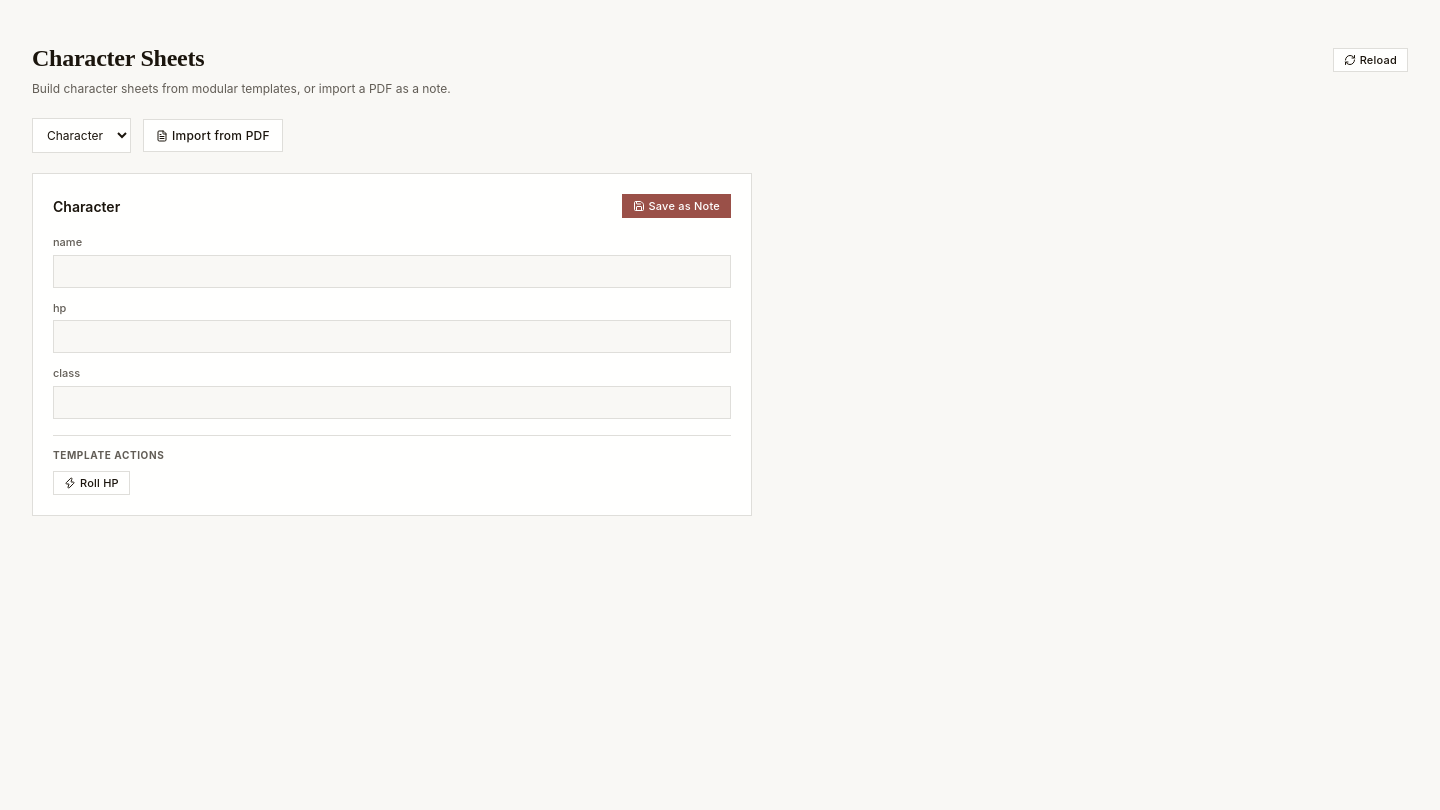
Test: CharacterSheetView › saves the sheet as a note with frontmatter and content
Expected: the heading "Character" is shown, [53, 196, 120, 216]
Type "Elira" into the field labelled "name" at (392, 271), box [53, 254, 731, 288]
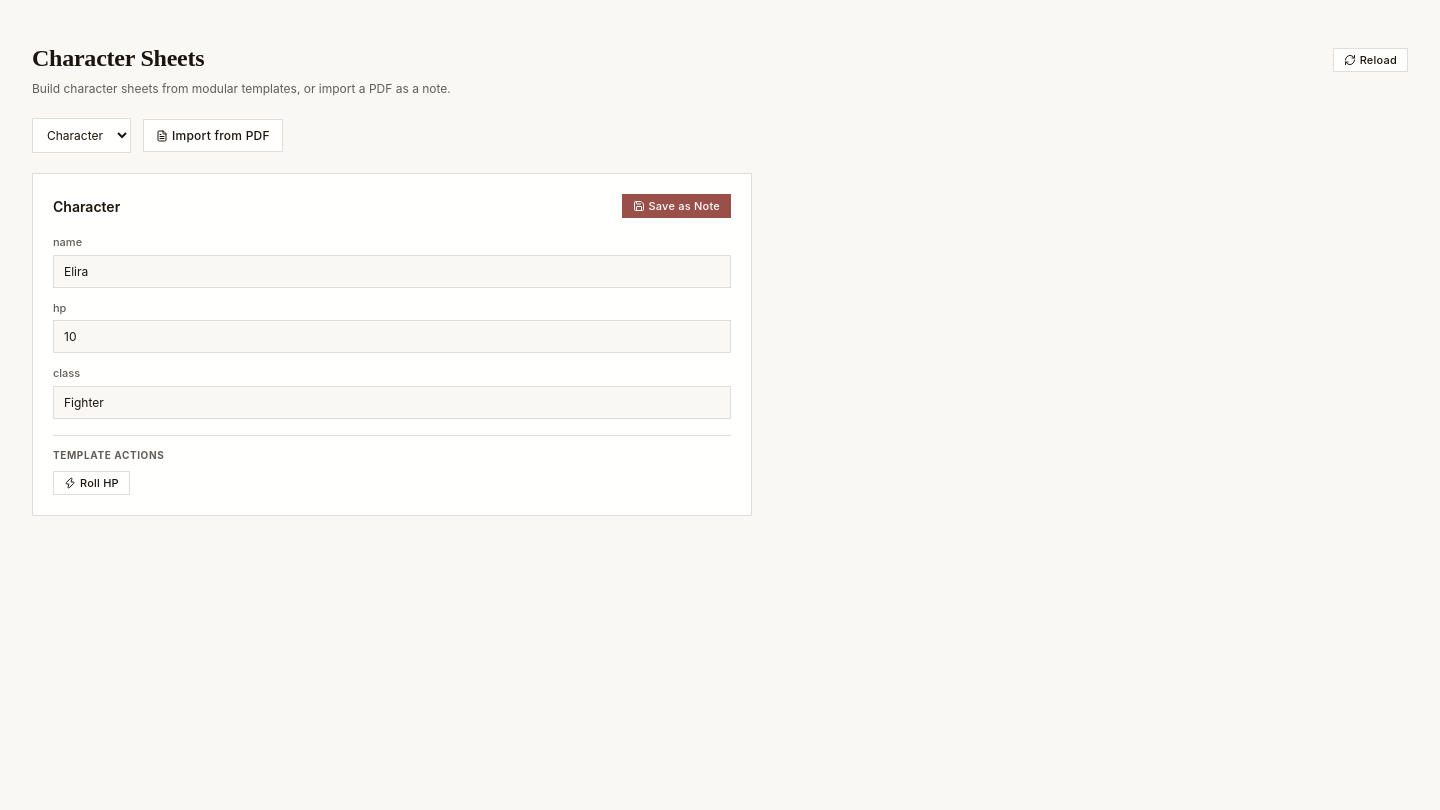
Replace the text in the field labelled "hp" with "42" at (392, 336), box [53, 320, 731, 353]
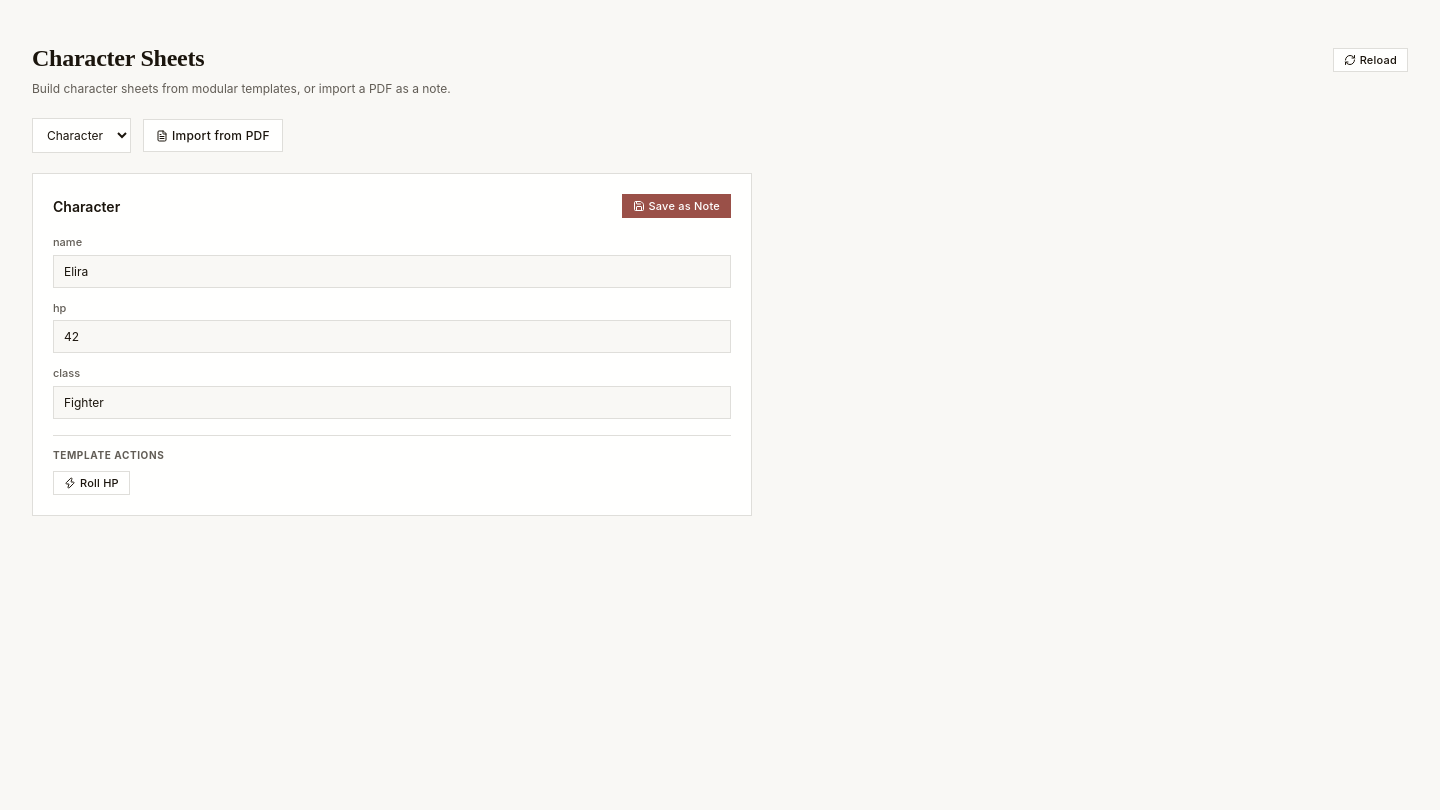
Click the button "Save as Note" at (676, 206), box [622, 194, 731, 218]
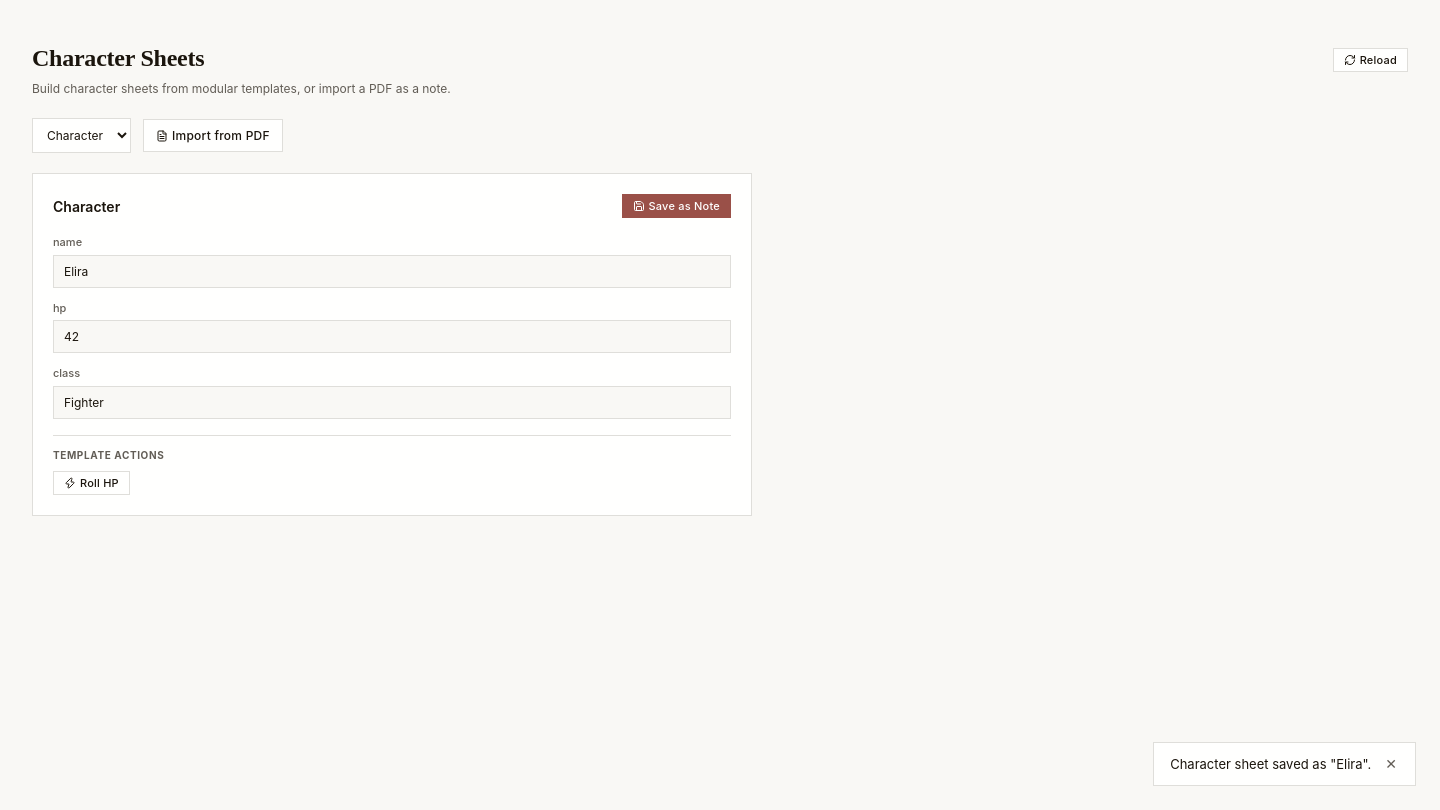
Now the message shows "Elira", box [1170, 756, 1371, 772]
